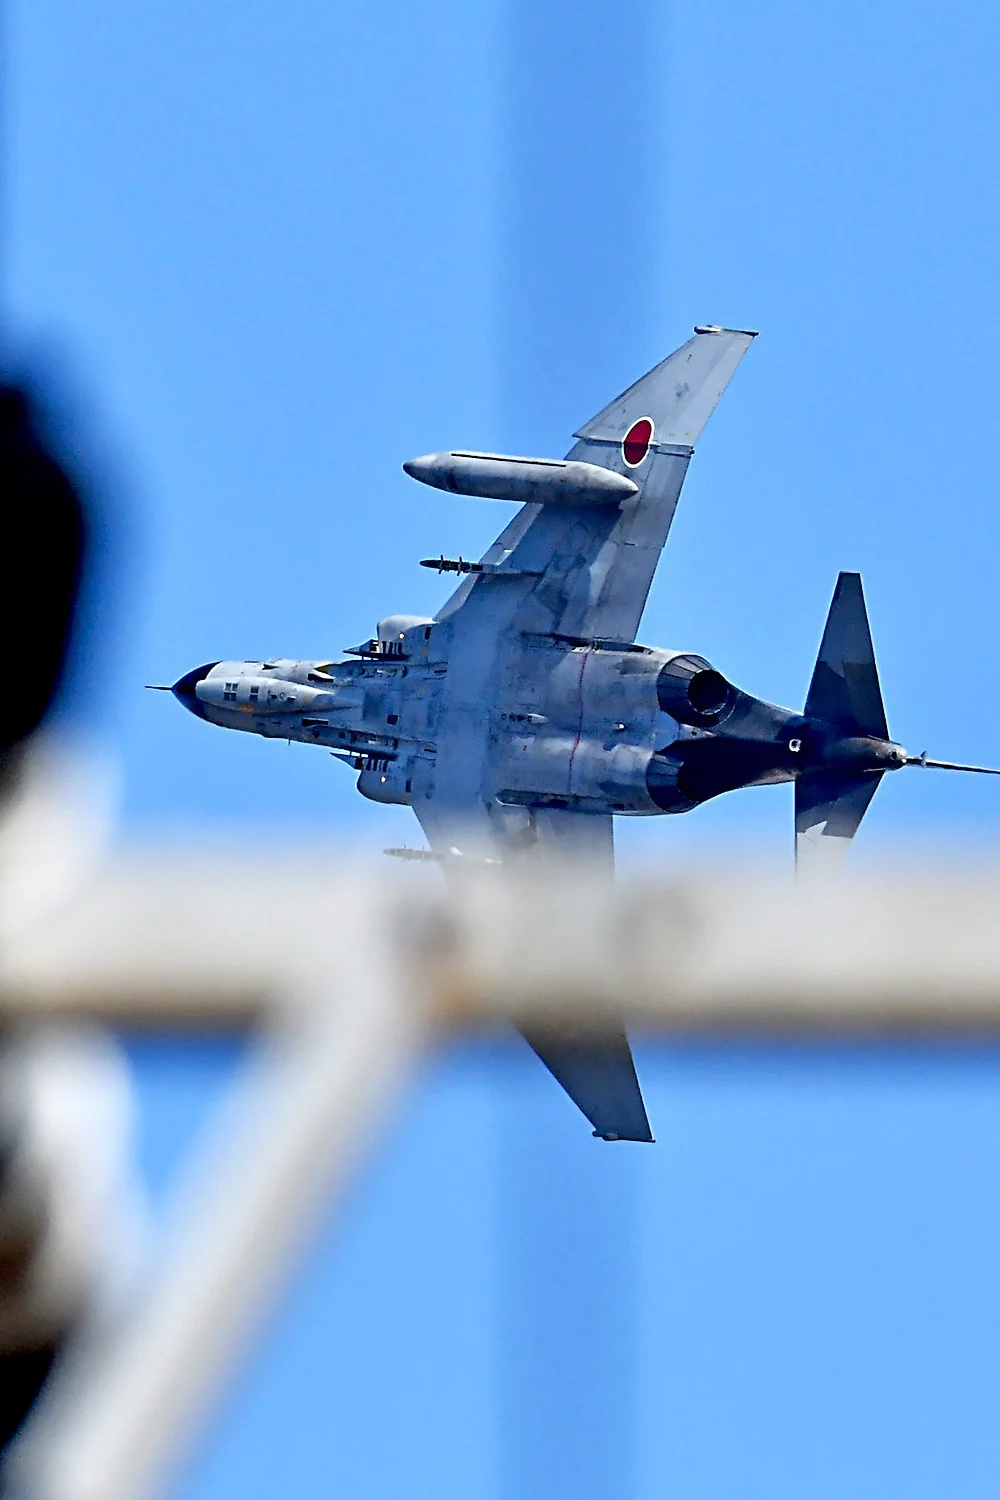F4: (143, 324, 1000, 1144)
